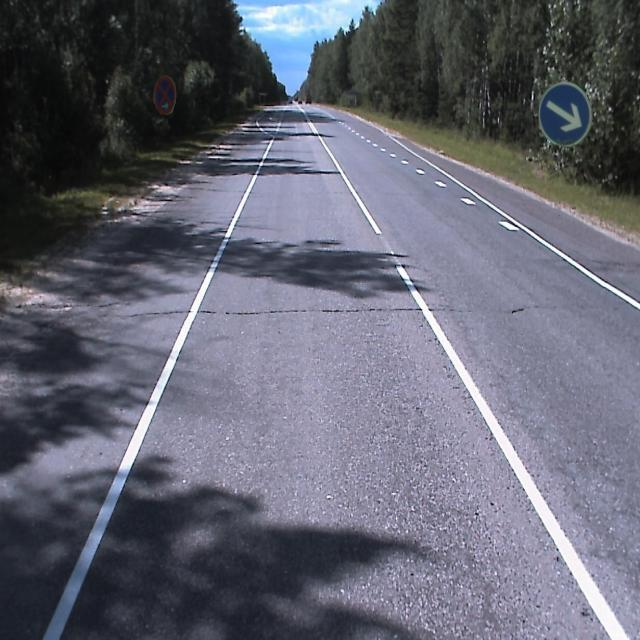road: (0, 102, 639, 639)
